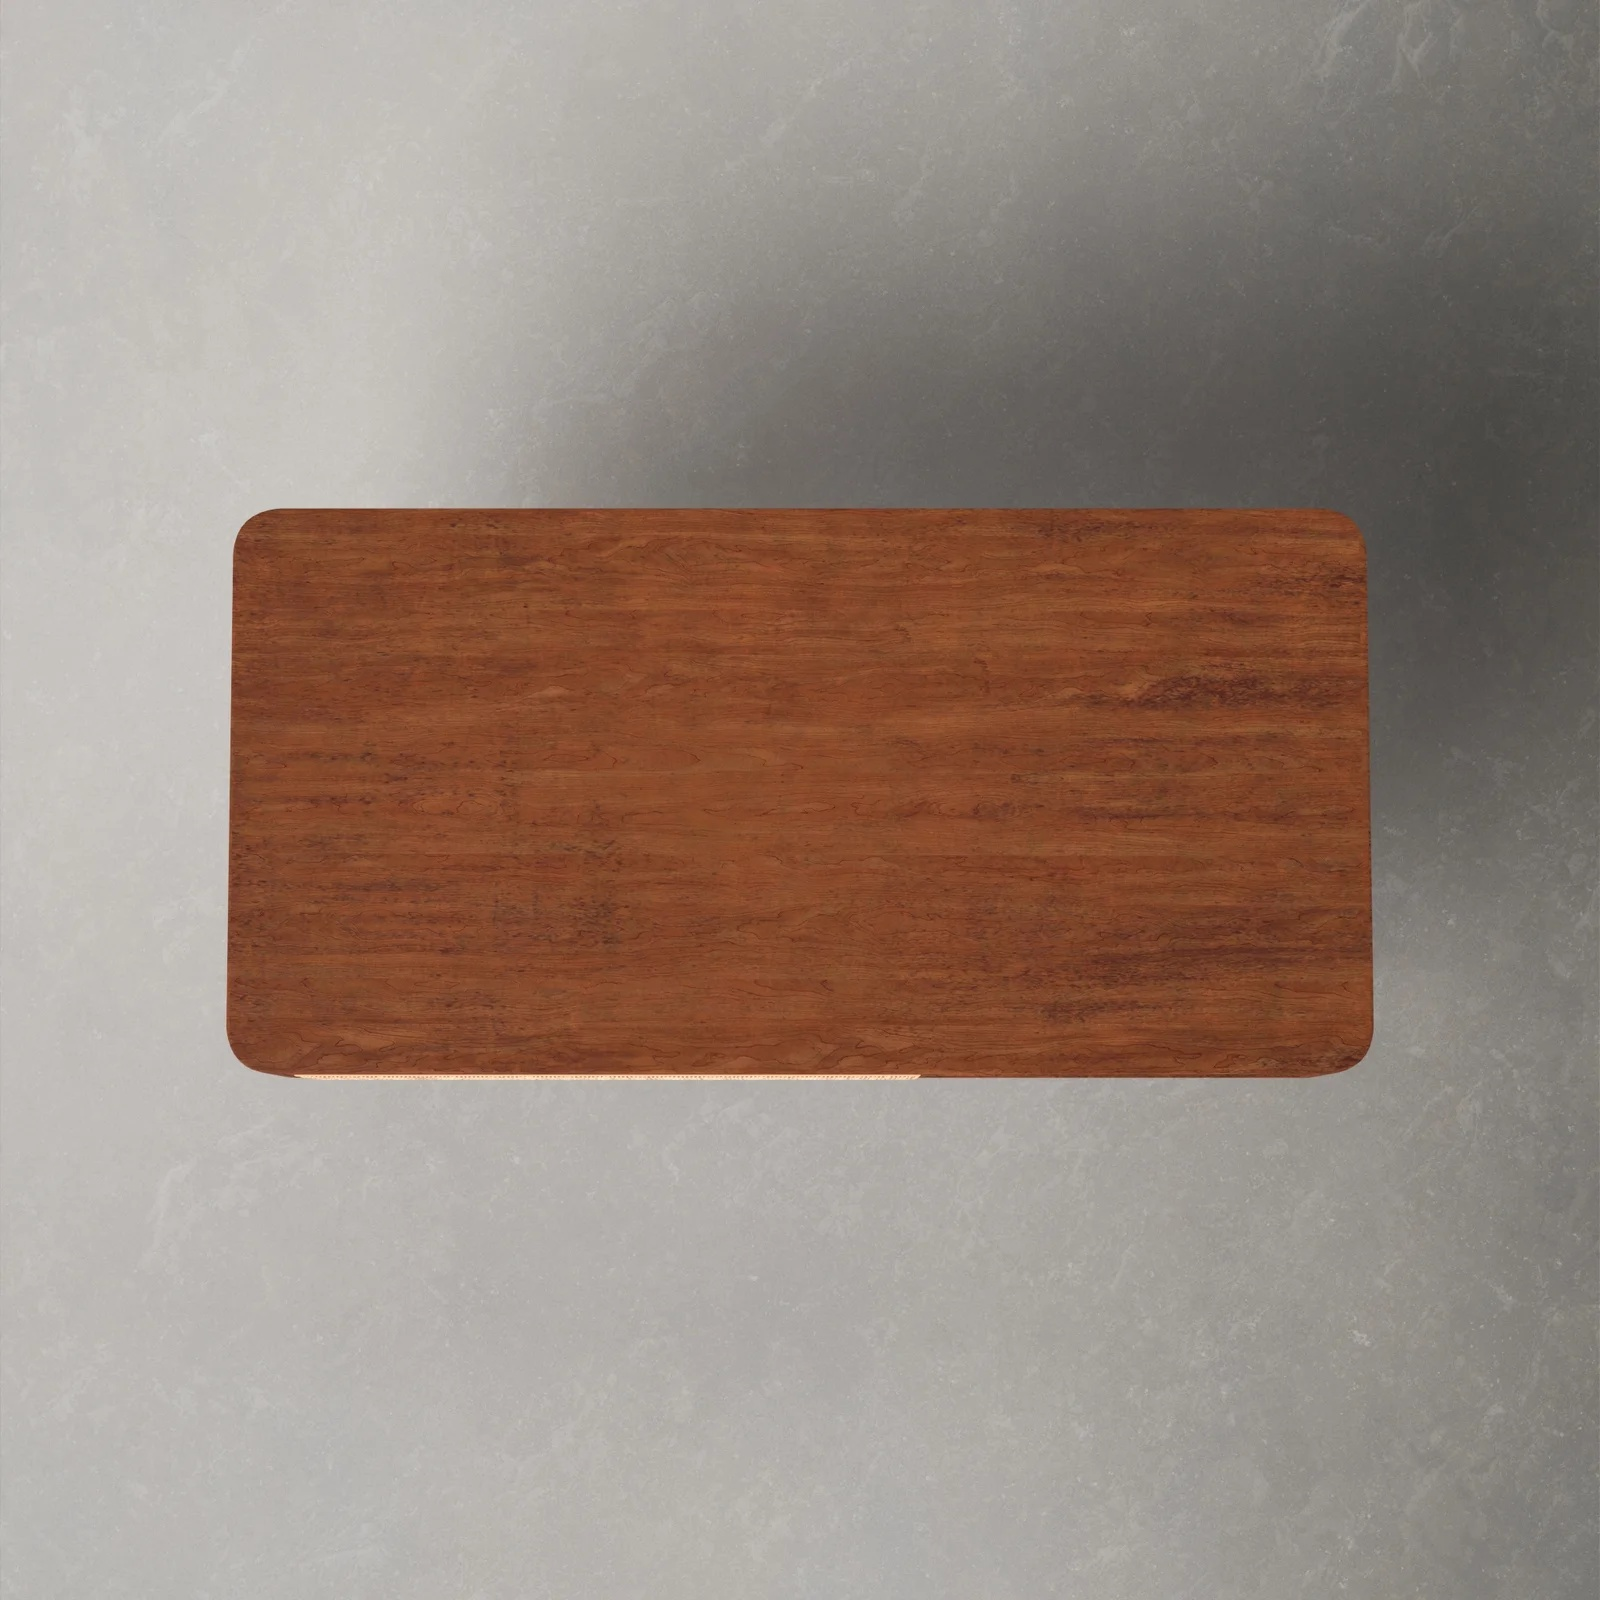obstacle: (229, 510, 1371, 1075)
